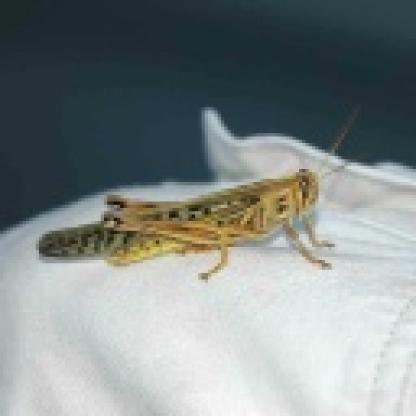grasshopper: (38, 159, 343, 281)
